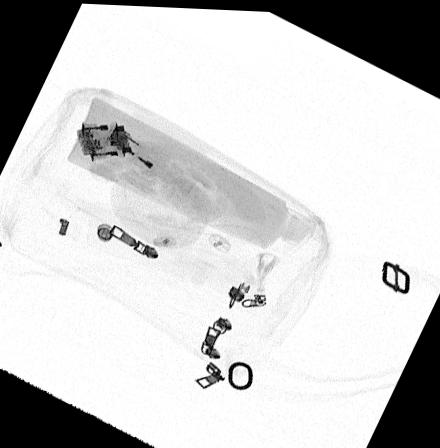Lighter: (103, 125, 199, 195)
